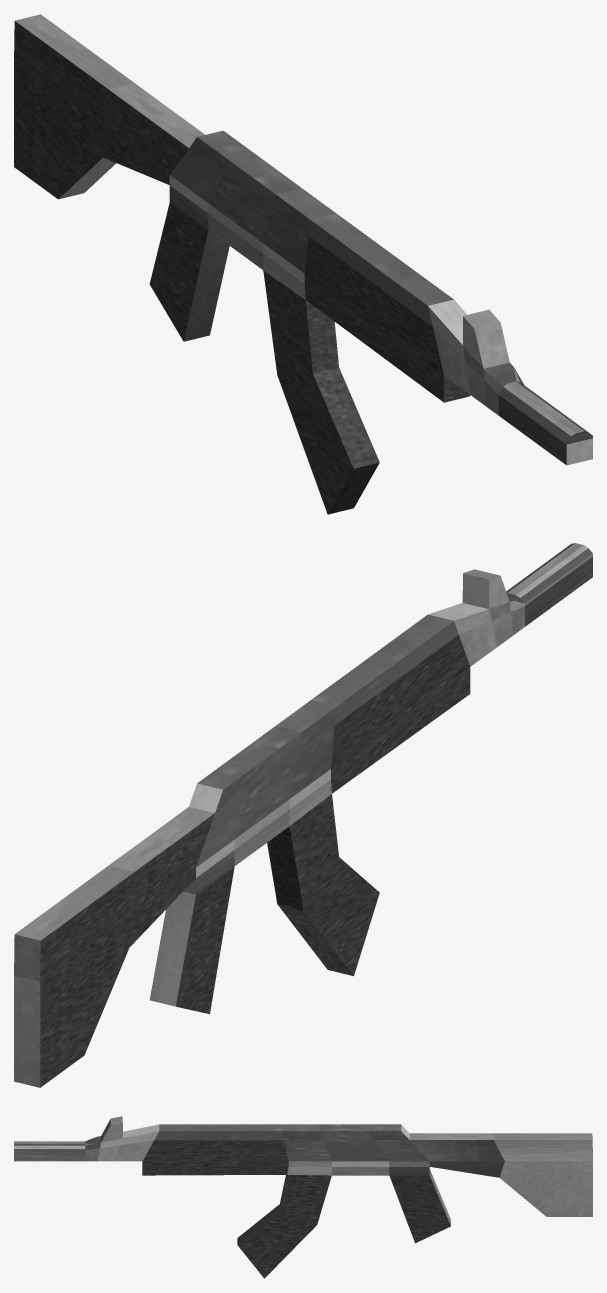
Rendered from vandal.glb.
The picture shows the model from 3 angles, top to bottom: view 1: azimuth 30°, elevation 25°; view 2: azimuth 150°, elevation 25°; view 3: azimuth 270°, elevation 25°; orthographic projection. The views are drawn at different scales.
Parts seen in each view (by area): view 1: Plane; view 2: Plane; view 3: Plane.
Part boxes in pixels (x1,y1,x2,y2): Plane: (14,14,592,514); Plane: (14,543,592,1087); Plane: (14,1116,592,1278).
Bounding box in the file's own units: 0.4444 × 4.82 × 16.22.
Materials: 1 (1 with a texture image).
